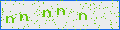n: (19, 13, 28, 21), (79, 13, 87, 20), (57, 8, 65, 15), (43, 10, 51, 17), (6, 16, 14, 23)
